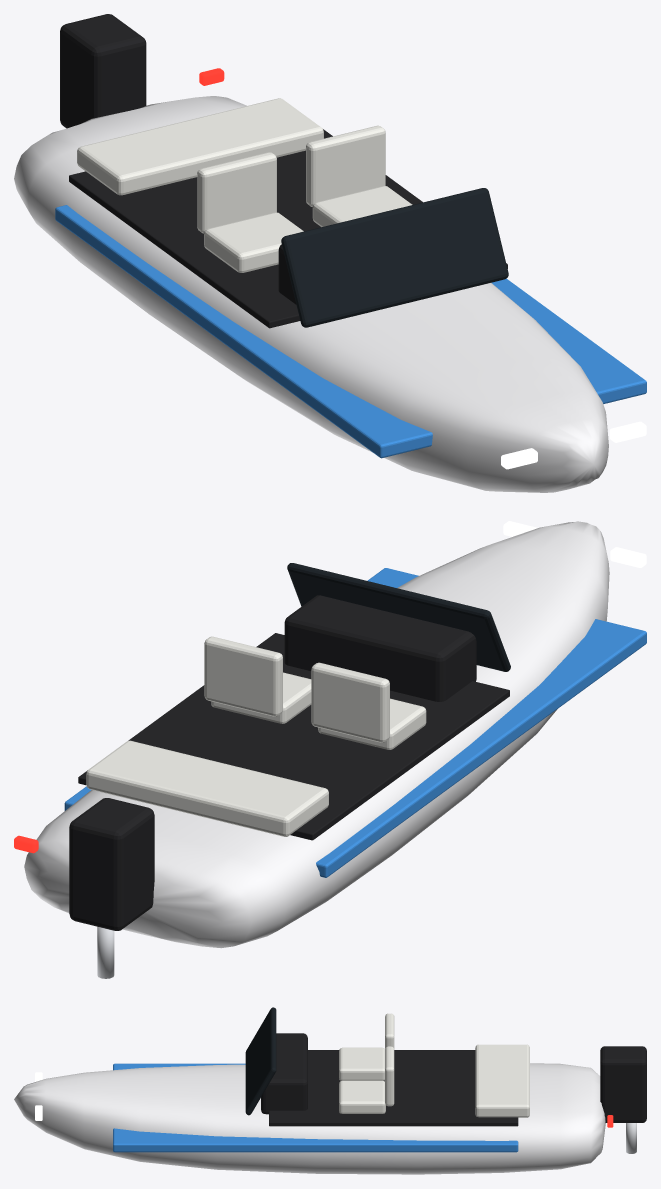
Rendered from marlin.glb.
The picture shows the model from 3 angles, top to bottom: view 1: azimuth 30°, elevation 25°; view 2: azimuth 150°, elevation 25°; view 3: azimuth 270°, elevation 25°; orthographic projection. The views are drawn at different scales.
Parts seen in each view (by area): view 1: hull, windshield, stripe, deck, bench, engine, seatback.001, seatback, seat, seat.001; view 2: hull, deck, console, bench, stripe, engine, windshield, seatback, seatback.001, seat, seat.001, prop; view 3: hull, deck, stripe, bench, engine, console, windshield, seat.001, seat, seatback.001, prop, seatback.
Part boxes in pixels (x1,y1,x2,y2): hull: [14, 96, 608, 492]; windshield: [281, 188, 508, 327]; stripe: [55, 205, 646, 458]; deck: [69, 129, 507, 328]; bench: [77, 98, 323, 195]; engine: [60, 14, 146, 128]; seatback.001: [306, 125, 385, 206]; seatback: [197, 152, 276, 233]; seat: [204, 212, 303, 272]; seat.001: [312, 186, 412, 227]; hull: [24, 521, 609, 948]; deck: [78, 633, 509, 840]; console: [284, 595, 476, 701]; bench: [86, 740, 328, 836]; stripe: [64, 568, 646, 877]; engine: [69, 798, 154, 930]; windshield: [287, 563, 510, 671]; seatback: [311, 662, 389, 742]; seatback.001: [204, 636, 282, 716]; seat: [318, 698, 426, 749]; seat.001: [211, 672, 311, 723]; prop: [97, 926, 114, 978]; hull: [14, 1063, 605, 1174]; deck: [269, 1050, 518, 1126]; stripe: [113, 1063, 518, 1152]; bench: [475, 1044, 529, 1117]; engine: [600, 1046, 646, 1122]; console: [261, 1033, 307, 1114]; windshield: [245, 1007, 276, 1115]; seat.001: [339, 1080, 385, 1113]; seat: [339, 1047, 384, 1080]; seatback.001: [385, 1046, 394, 1106]; prop: [626, 1123, 636, 1153]; seatback: [385, 1013, 394, 1048].
Bounding box in the file's own units: 2.46 × 1.62 × 8.12.
